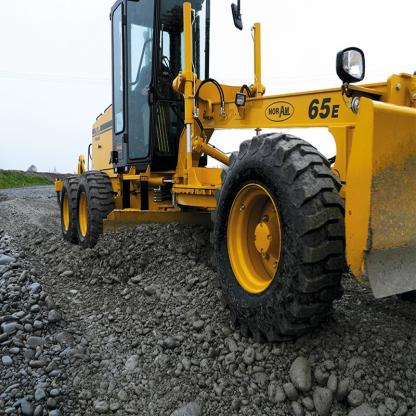bull_dozer/loader/grader: (47, 6, 416, 372)
